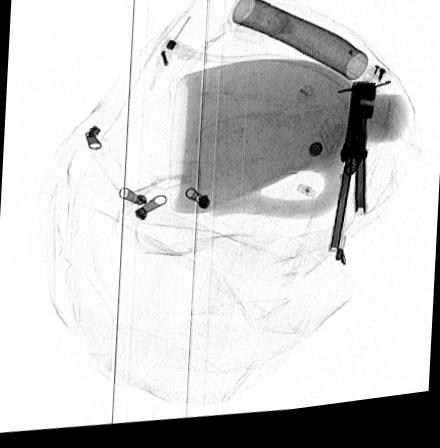Pliers: (329, 91, 376, 259)
